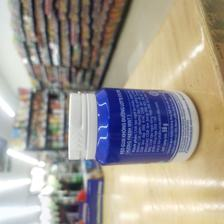Xylitol_blue: (63, 87, 201, 166)
